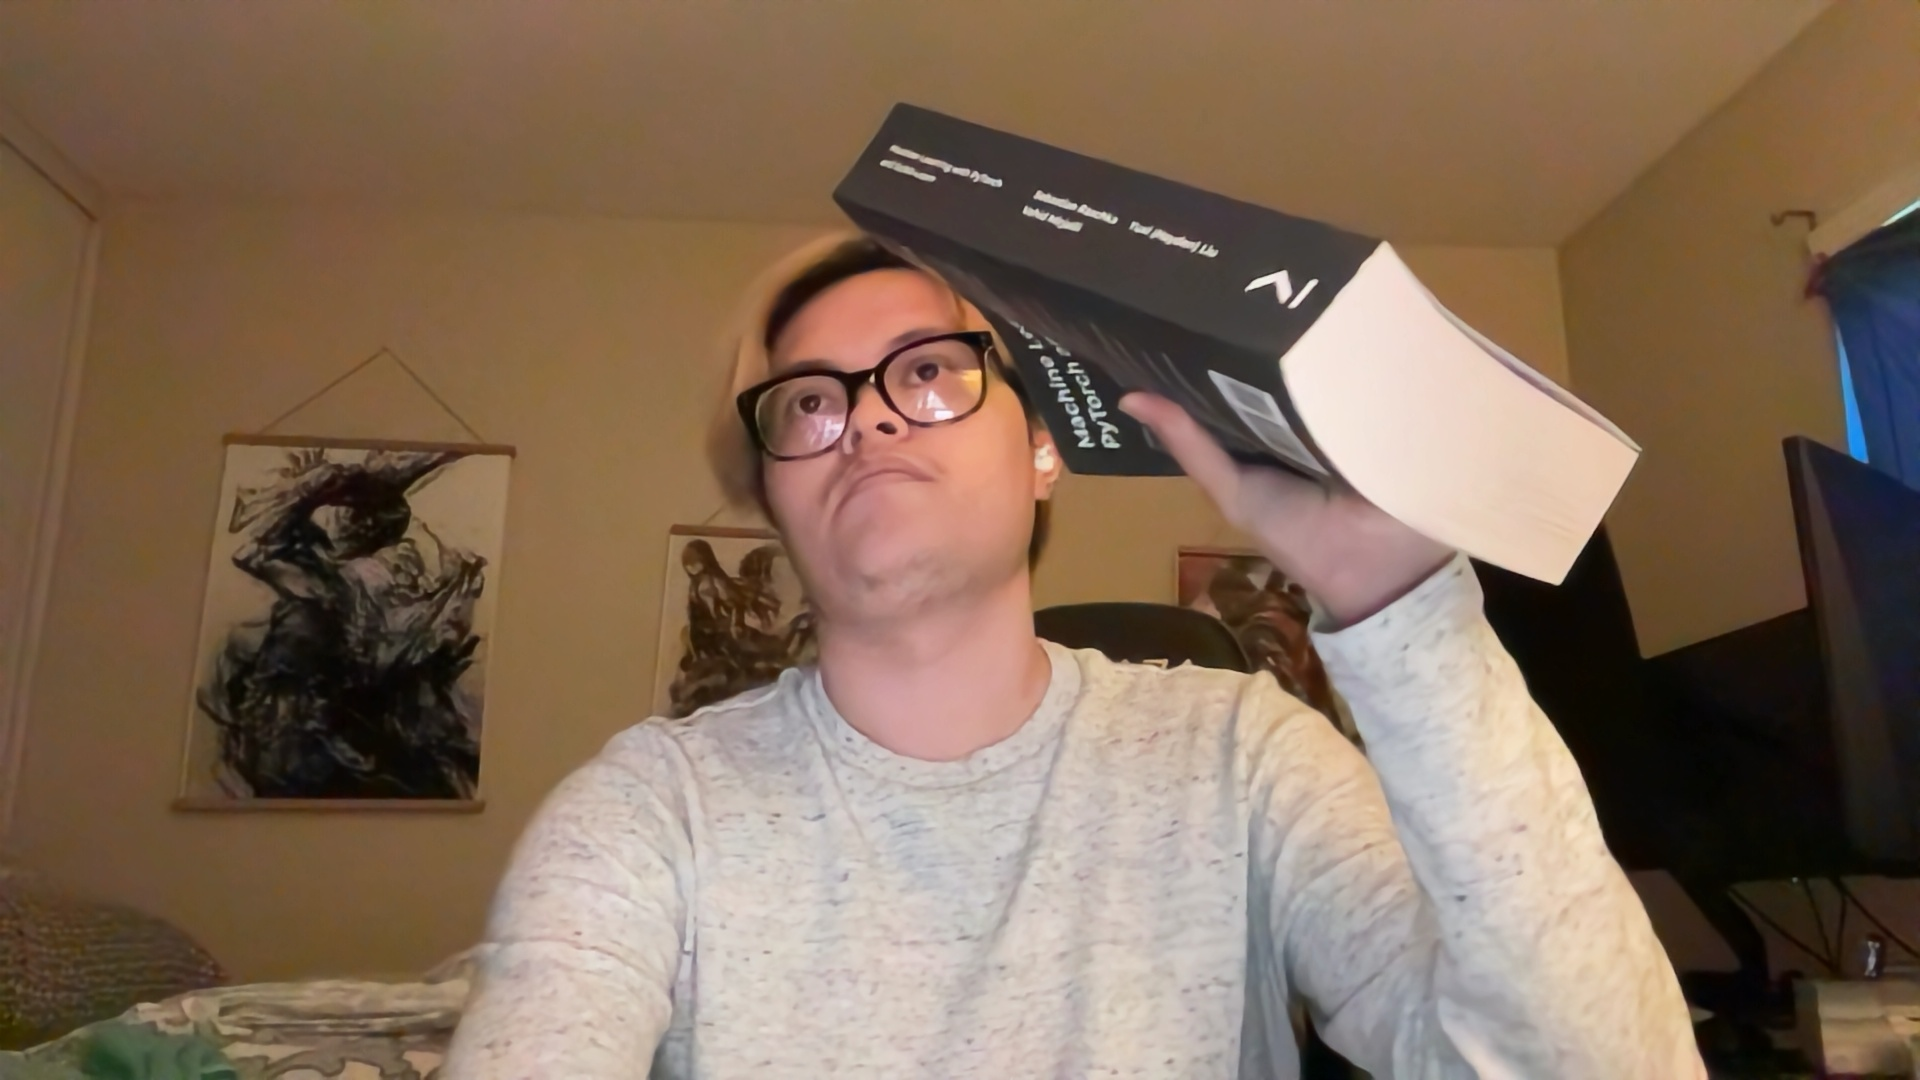book: (823, 88, 1650, 600)
